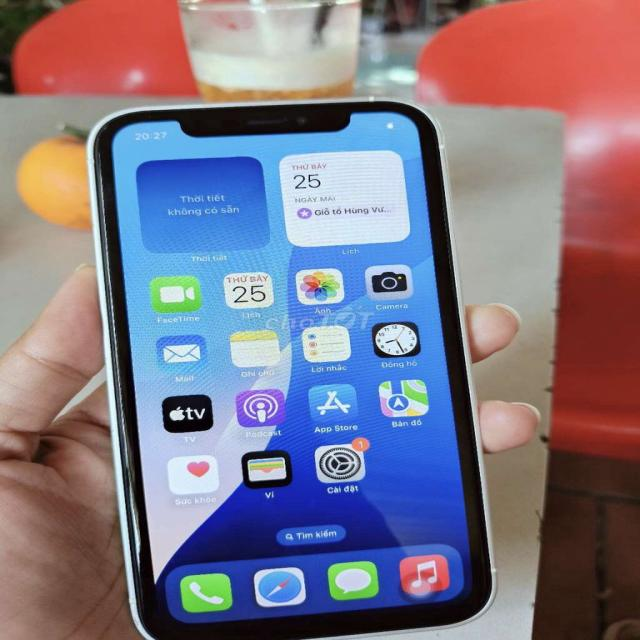scratch: (94, 121, 123, 139)
